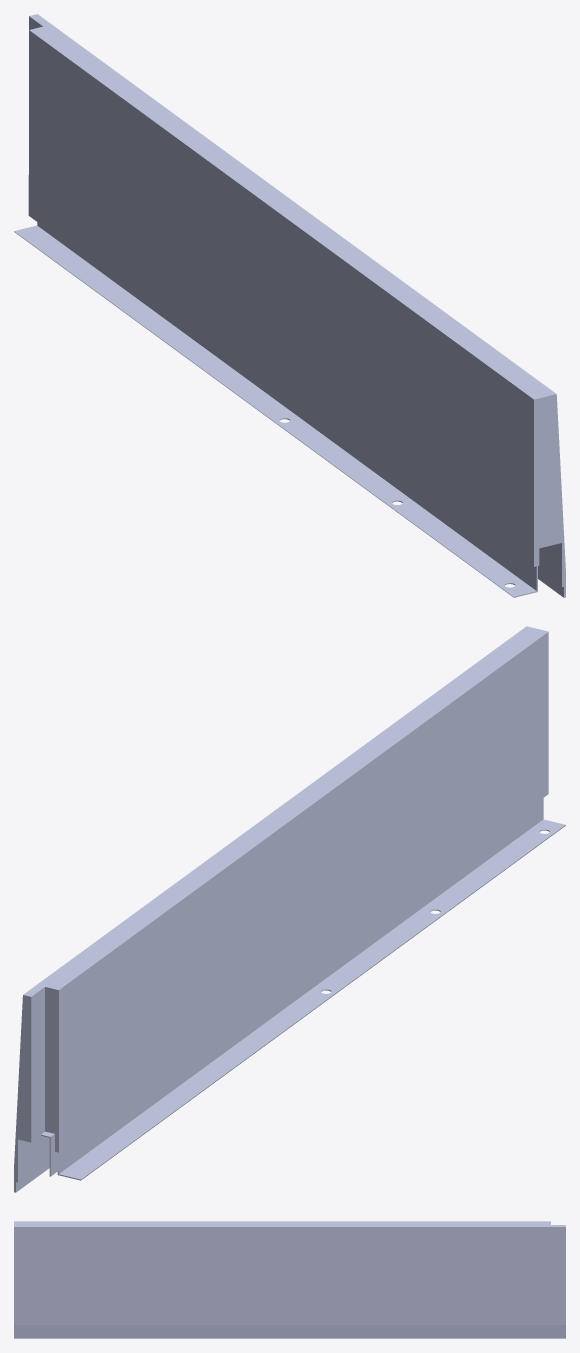
File: mv-kava-K600-m.glb
3 views of the same model, one above another, from view 1: azimuth 30°, elevation 25°; view 2: azimuth 150°, elevation 25°; view 3: azimuth 270°, elevation 25° (orthographic). The views are drawn at different scales.
Visible parts, largest first — view 1: 48904266; view 2: 48904266; view 3: 48904266.
Part boxes in pixels (x1=…): 48904266: x1=14, y1=14, x2=565, y2=597; 48904266: x1=14, y1=626, x2=565, y2=1192; 48904266: x1=14, y1=1221, x2=565, y2=1338.
Size of the model in its own units: 0.0335 by 0.129 by 0.5902.
